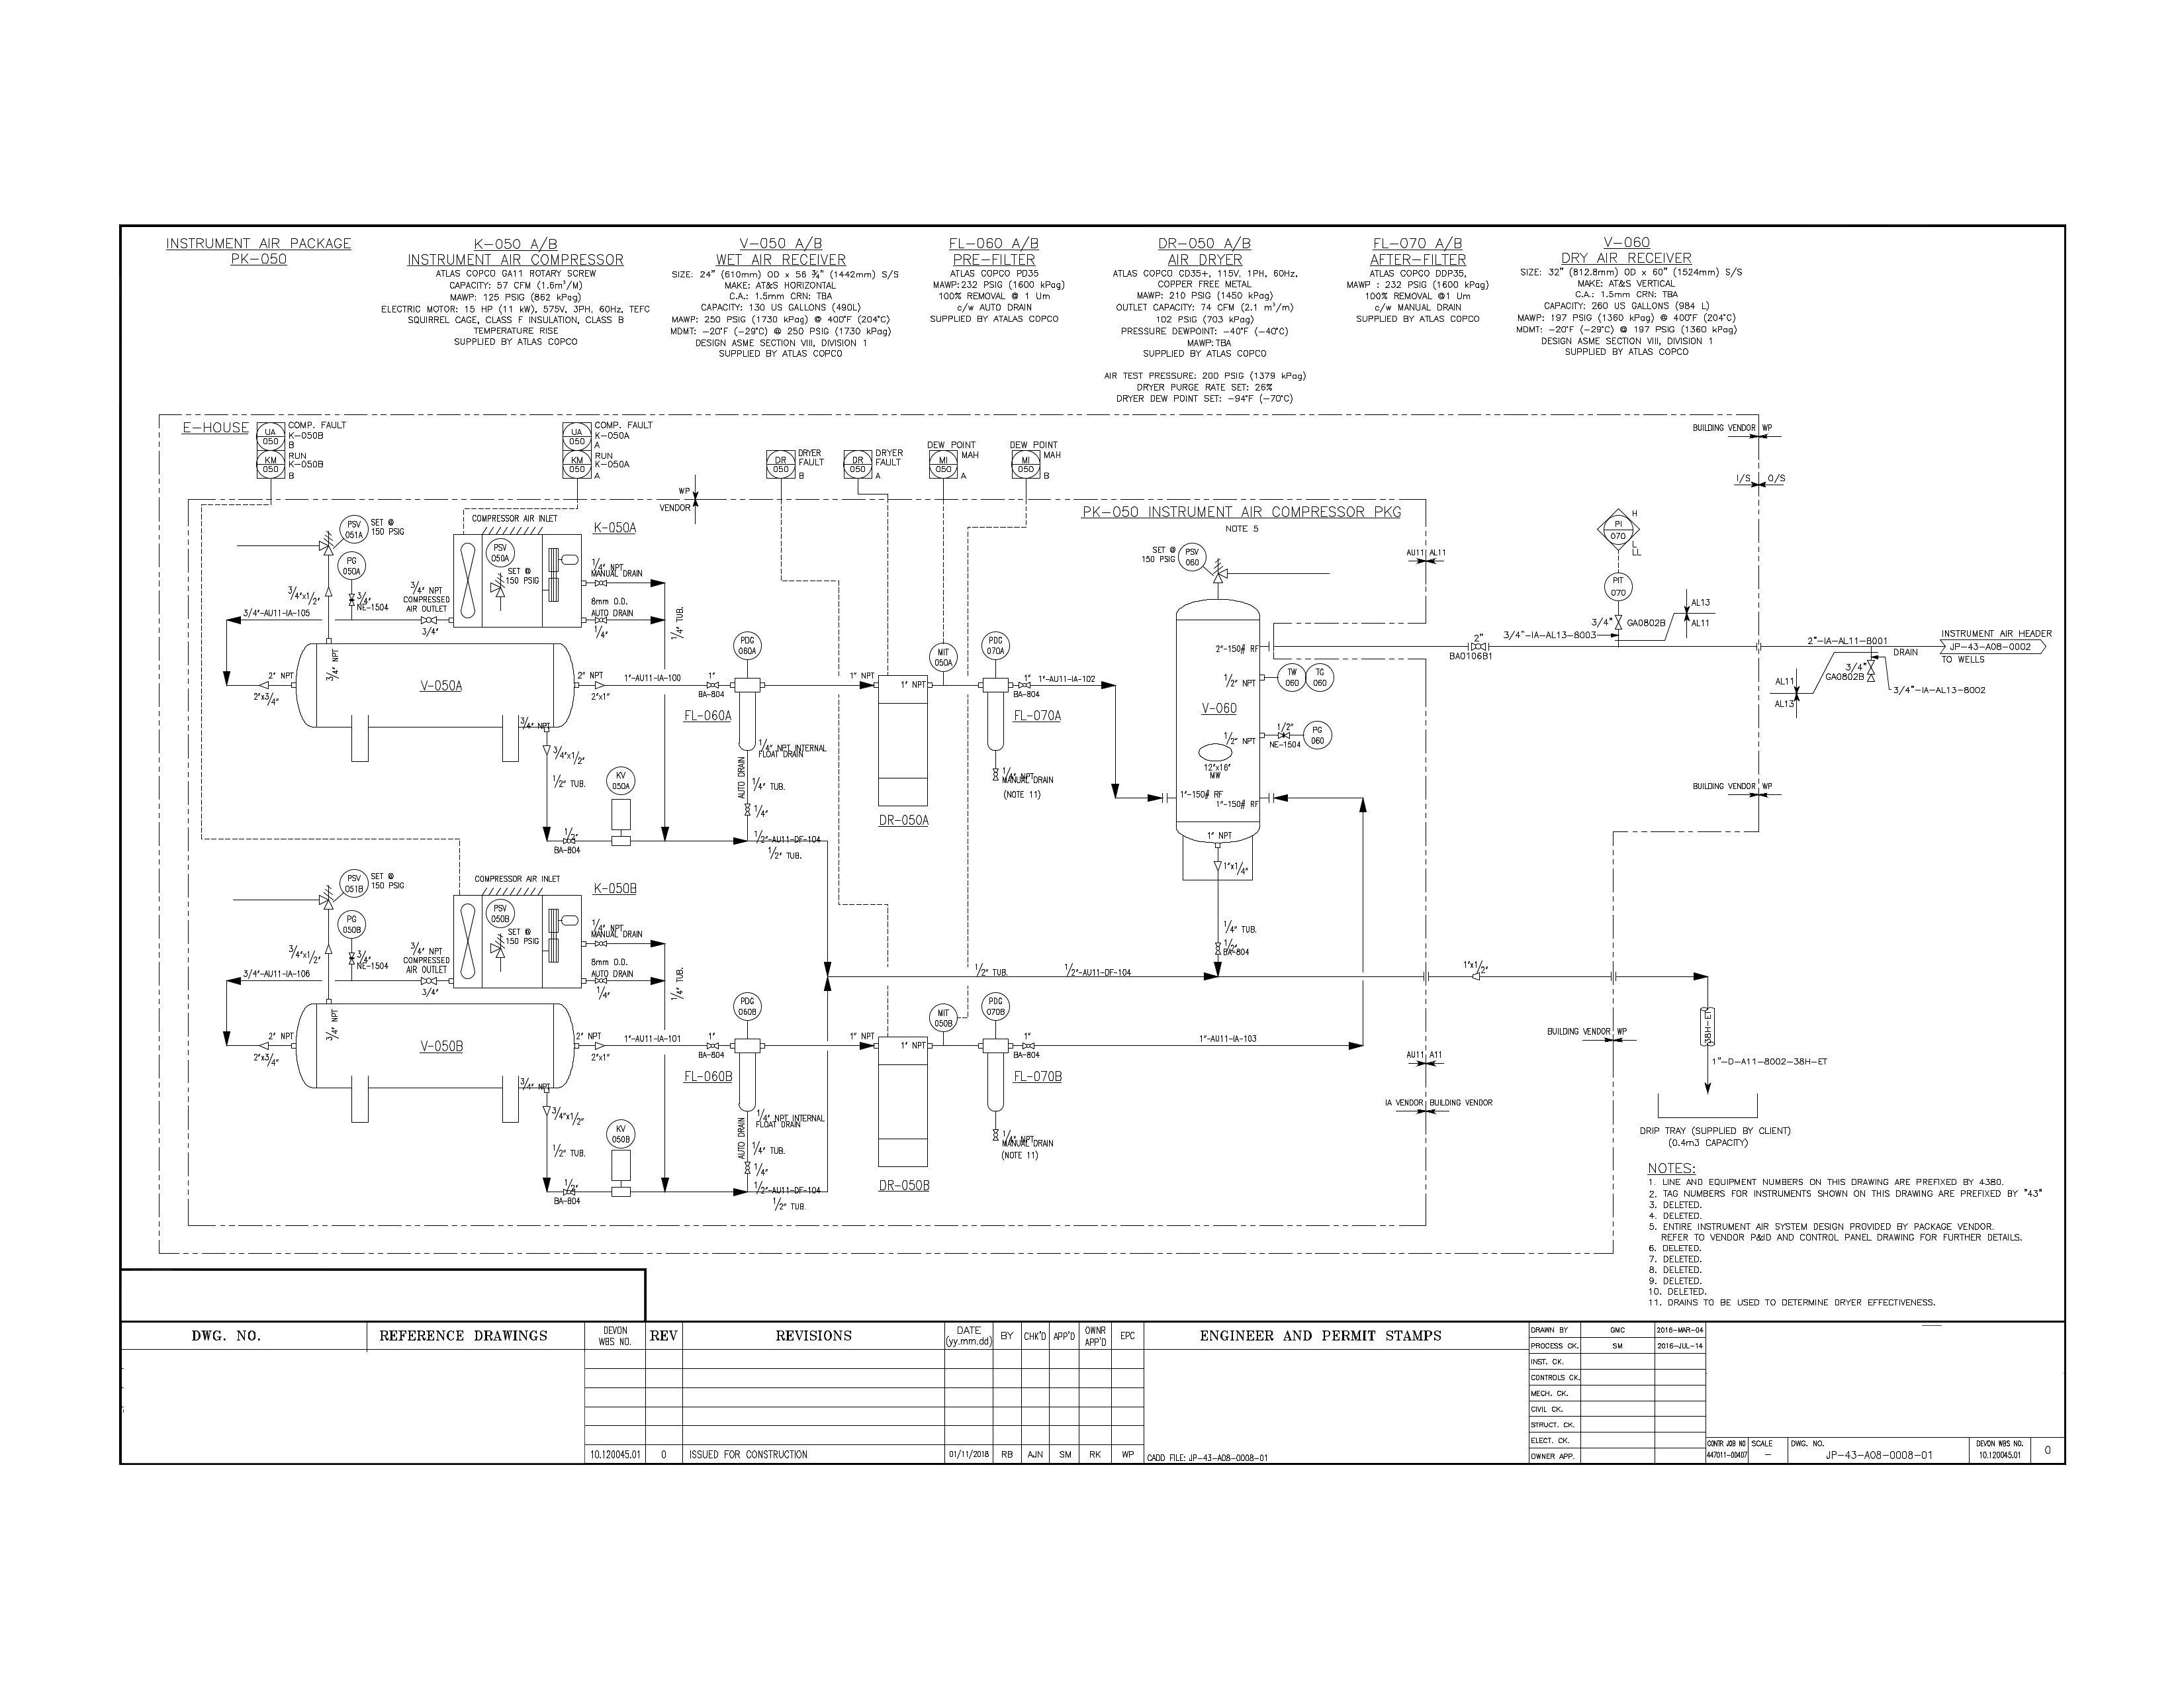Inline Instrument: (1175, 541, 1209, 573), (979, 629, 1012, 661), (337, 867, 370, 899), (927, 1000, 961, 1032), (339, 512, 370, 544), (732, 629, 764, 661), (337, 550, 369, 582), (927, 642, 961, 672), (1301, 720, 1335, 750), (604, 766, 638, 796), (732, 991, 766, 1021), (603, 1119, 636, 1149), (980, 991, 1014, 1021), (486, 537, 518, 567), (1276, 661, 1306, 693), (1603, 569, 1633, 601), (337, 910, 369, 940), (486, 897, 518, 927), (1306, 661, 1335, 693)
Panel Instrument: (255, 449, 287, 481), (253, 420, 287, 450), (560, 420, 594, 450), (842, 449, 876, 479), (927, 449, 961, 479), (1009, 449, 1042, 479), (562, 450, 594, 481), (764, 449, 796, 479)
